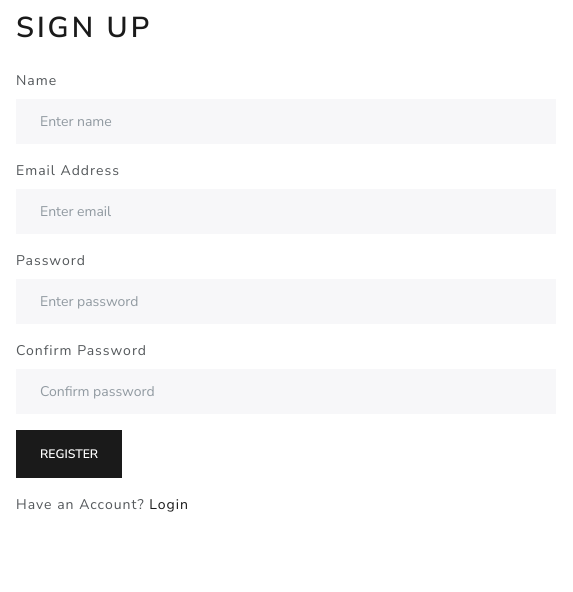
Test case: PTC-26 : Validation du formulaire d'inscription › 12. La validation des mots de passe a priorité sur les champs vides
Remplir tous les champs SAUF le confirm password
In the field with placeholder "Enter name": (286, 121) left=16, top=98, right=556, bottom=144, type "Test User"
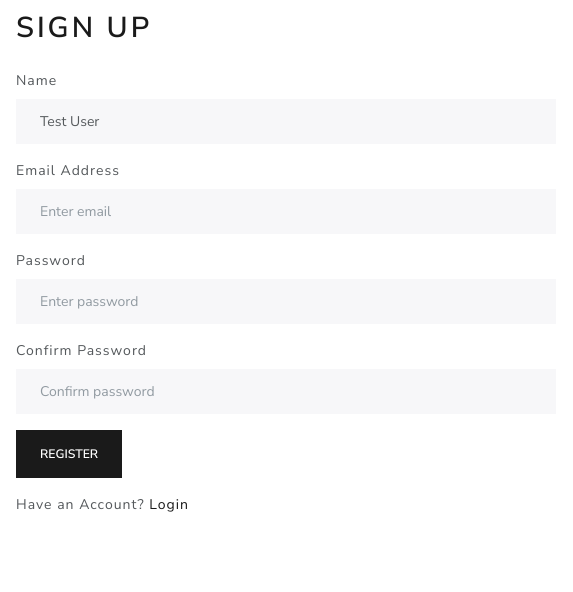
In the field with placeholder "Enter email": (286, 211) left=16, top=188, right=556, bottom=234, type "test@example.com"
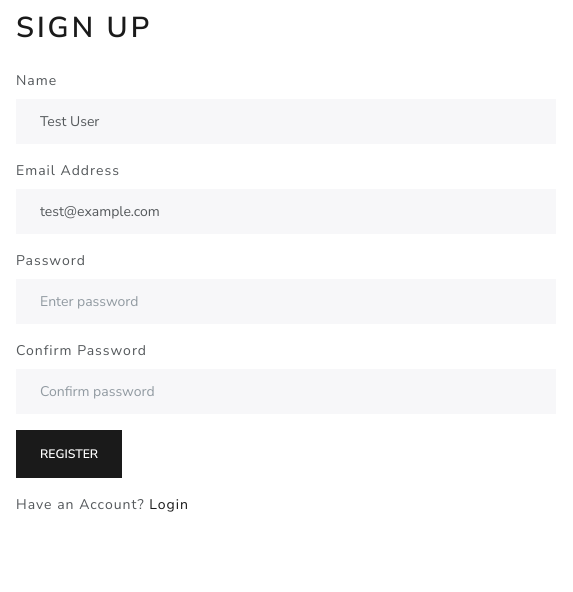
In the password field with placeholder "Enter password": (286, 301) left=16, top=278, right=556, bottom=324, type "password123"
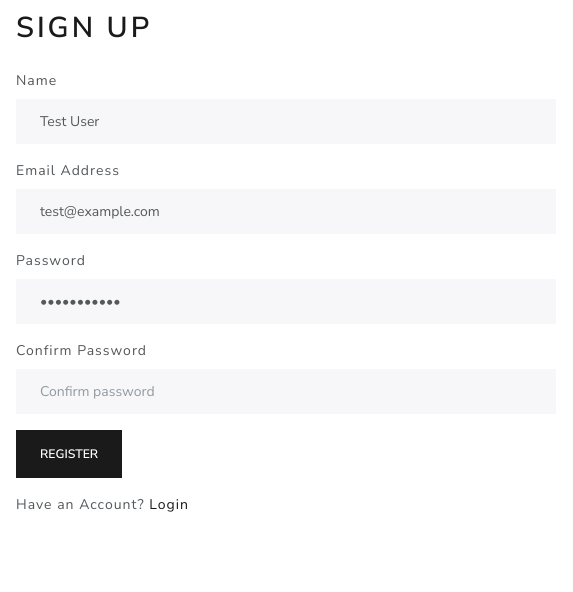
Click the button "Register": (69, 454) left=16, top=430, right=122, bottom=478
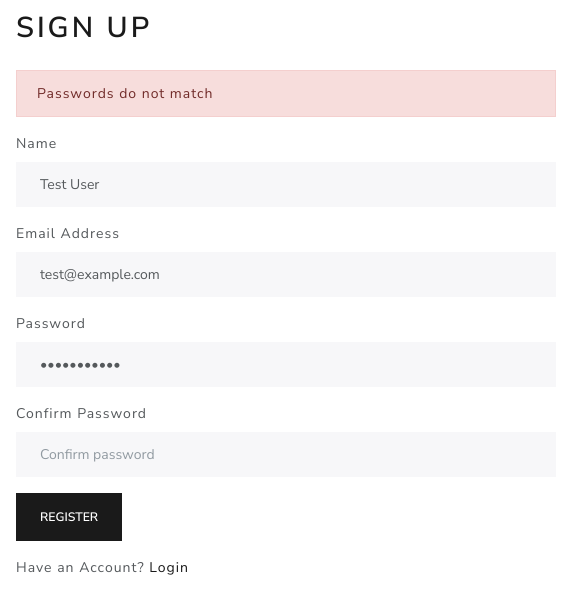
Expected: the text "Passwords do not match" is shown, left=16, top=70, right=556, bottom=116
